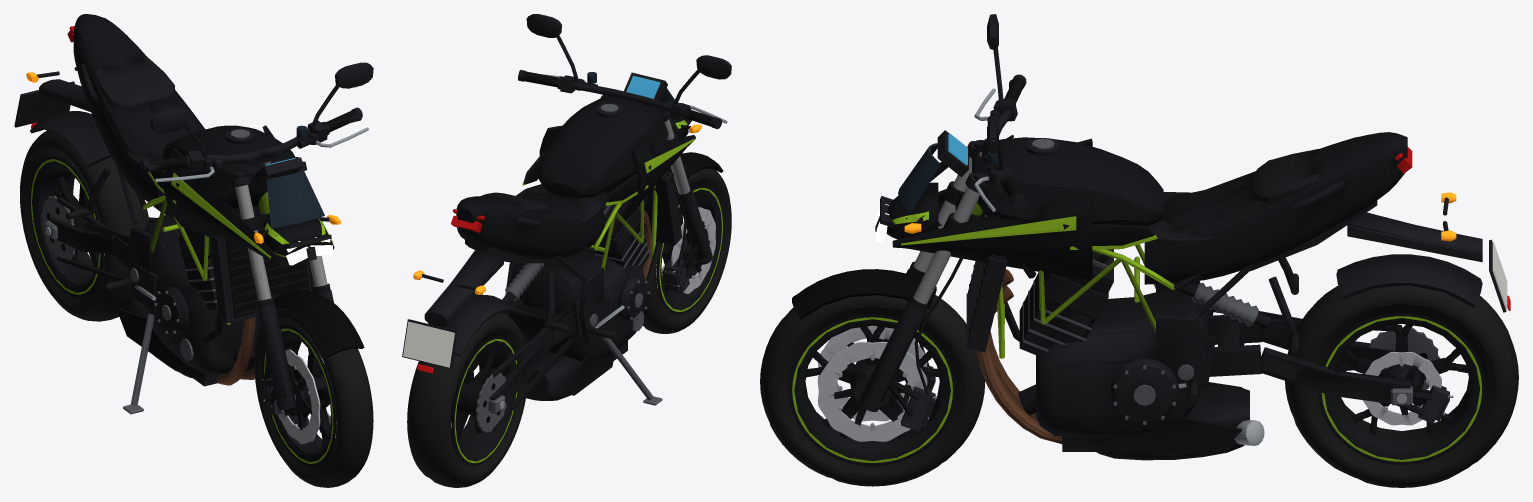
Rendered from bike01_z650.glb.
The picture shows the model from 3 angles, left to right: view 1: azimuth 30°, elevation 25°; view 2: azimuth 150°, elevation 25°; view 3: azimuth 270°, elevation 25°; orthographic projection. The views are drawn at different scales.
Visible parts, largest first — view 1: body (×2), wheel_rear (×2), wheel_front (×2), handlebar (×2), fork_left (×2), disc_front (×2), fork_right, headlight; view 2: body (×2), wheel_rear (×2), wheel_front (×2), handlebar (×2), fork_left (×2), disc_front (×2); view 3: body (×2), wheel_rear (×2), wheel_front (×2), disc_front (×2), fork_right (×2), handlebar (×2), disc_rear (×2), fork_left.
Boxes of the visible parts, x1=… form: body (×2): x1=14, y1=14, x2=364, y2=414; wheel_rear (×2): x1=20, y1=130, x2=149, y2=321; wheel_front (×2): x1=254, y1=307, x2=373, y2=487; handlebar (×2): x1=140, y1=62, x2=373, y2=182; fork_left (×2): x1=233, y1=171, x2=296, y2=414; disc_front (×2): x1=278, y1=349, x2=336, y2=443; fork_right: x1=292, y1=157, x2=333, y2=302; headlight: x1=286, y1=237, x2=332, y2=265; body (×2): x1=402, y1=72, x2=723, y2=431; wheel_rear (×2): x1=407, y1=312, x2=527, y2=487; wheel_front (×2): x1=642, y1=168, x2=731, y2=333; handlebar (×2): x1=518, y1=14, x2=731, y2=129; fork_left (×2): x1=657, y1=108, x2=712, y2=293; disc_front (×2): x1=656, y1=207, x2=715, y2=293; body (×2): x1=792, y1=130, x2=1510, y2=460; wheel_rear (×2): x1=1285, y1=285, x2=1518, y2=487; wheel_front (×2): x1=760, y1=295, x2=985, y2=486; disc_front (×2): x1=817, y1=325, x2=927, y2=441; fork_right (×2): x1=858, y1=171, x2=987, y2=431; handlebar (×2): x1=974, y1=14, x2=1026, y2=211; disc_rear (×2): x1=1362, y1=351, x2=1441, y2=425; fork_left: x1=878, y1=140, x2=984, y2=401.
Size of the model in its own units: 0.7912 by 1.21 by 2.02.
